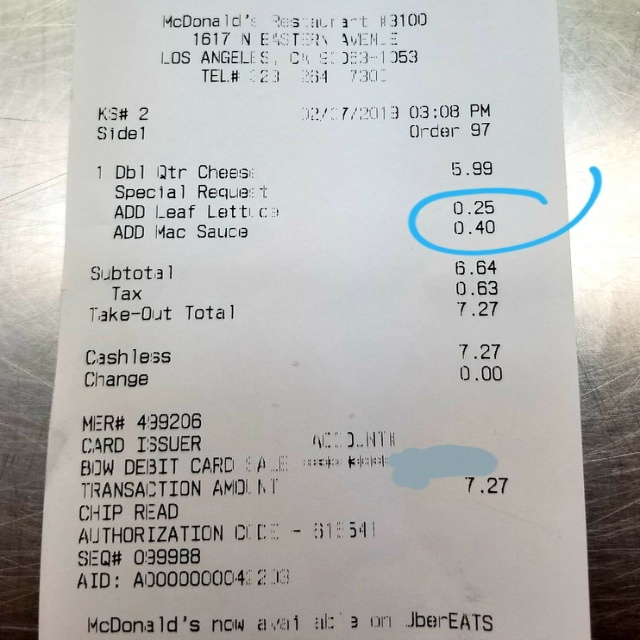invoice_table: (96, 160, 494, 239)
invoice_title: (160, 13, 427, 81)
invoice_total: (185, 301, 498, 322)
